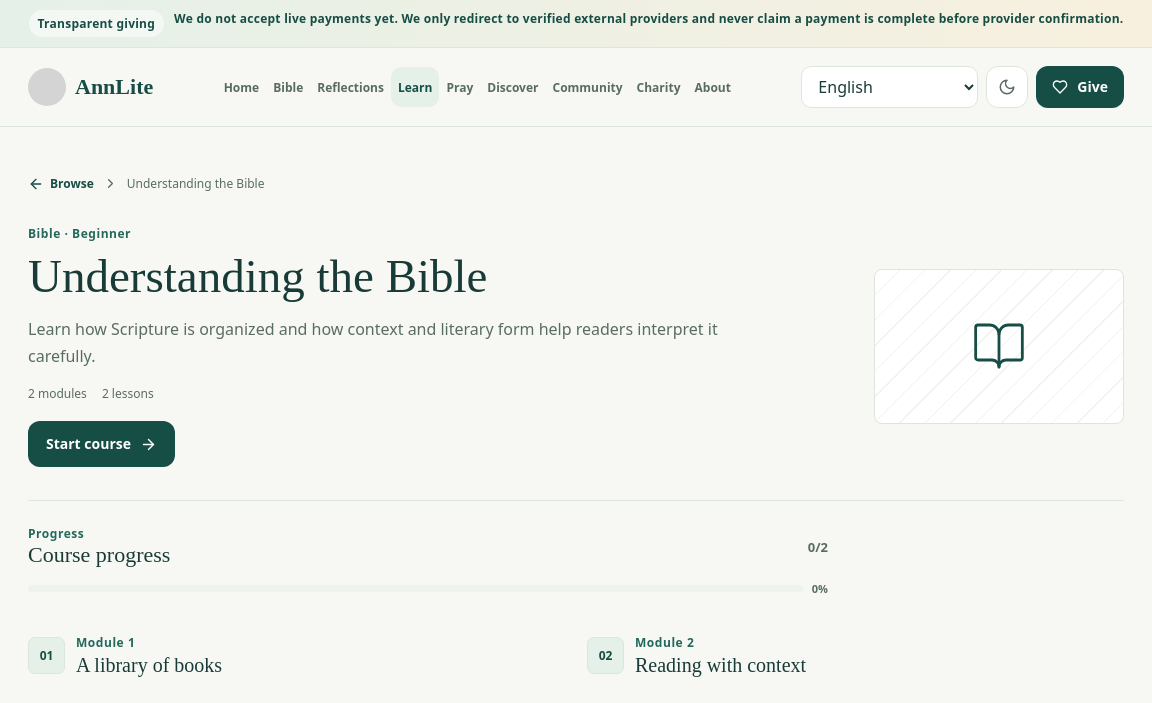
Scenario: AnnLite web experience › course overview starts at the first lesson and supports return navigation
Expected: the navigation bar named "Main navigation" is shown, x1=217 y1=67 x2=738 y2=107
Expected: the heading "Understanding the Bible" is shown, x1=28 y1=250 x2=488 y2=302
Step 1. Click the link "Start course" → [102, 444], box x1=28 y1=421 x2=175 y2=467
(page scrolled)
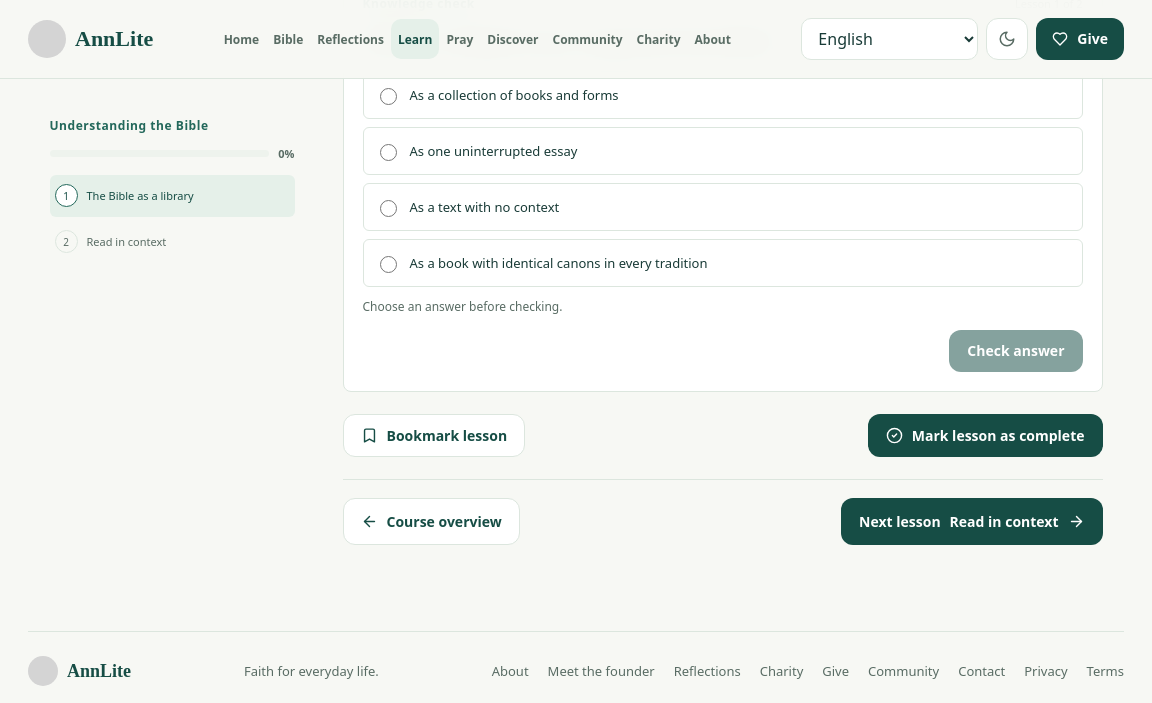
Step 2. Click the link "Course overview" → [431, 522], box x1=342 y1=498 x2=520 y2=545
(page scrolled)
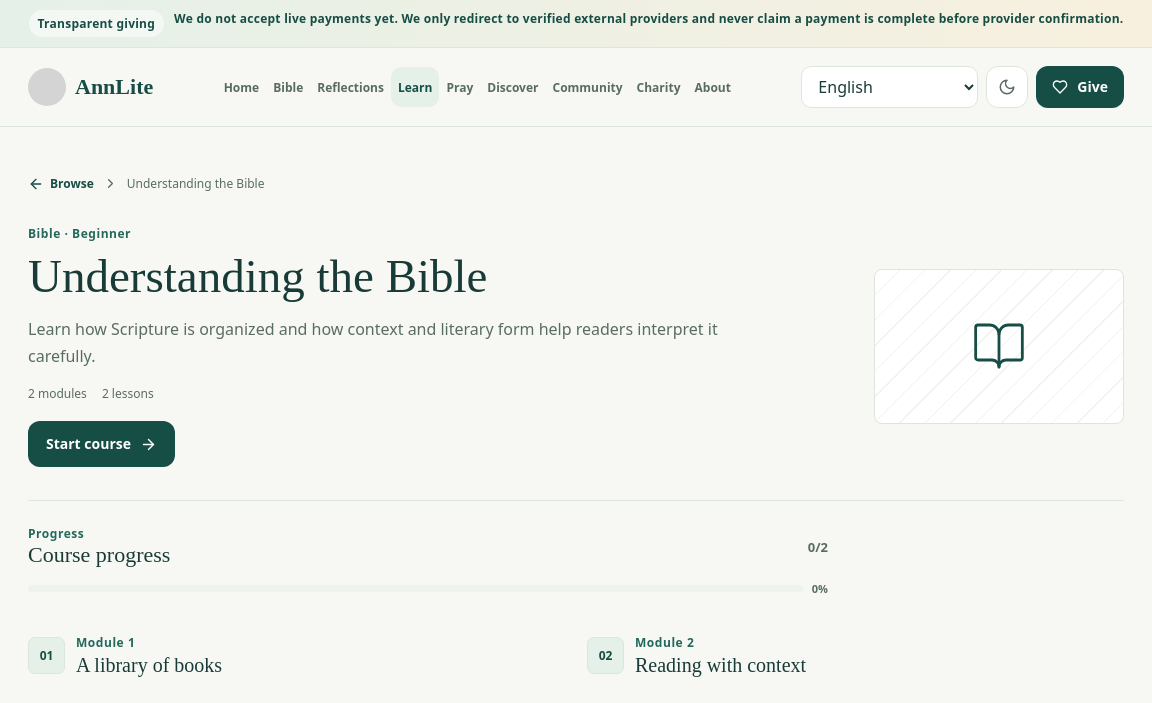
Now the heading "Understanding the Bible" is shown, box x1=28 y1=250 x2=488 y2=302
